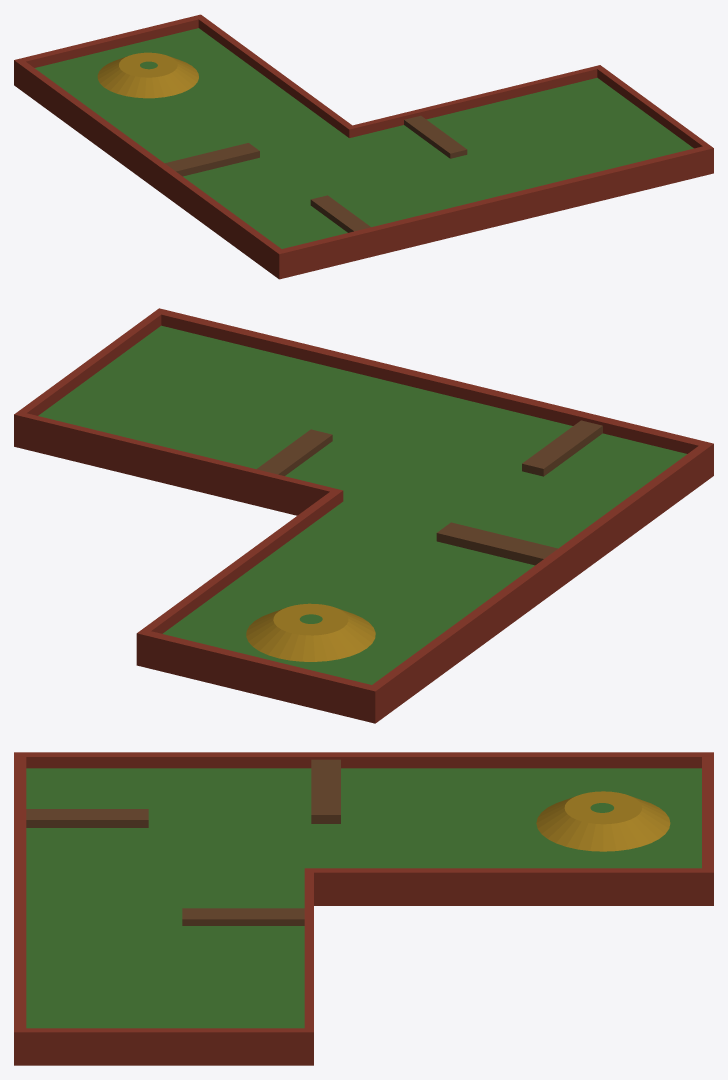
File: playgroundLvl2.glb
3 renders of one model, top to bottom at view 1: azimuth 30°, elevation 25°; view 2: azimuth 150°, elevation 25°; view 3: azimuth 270°, elevation 25°, orthographic. The views are drawn at different scales.
Visible parts, largest first — view 1: Cube.001, Cube, Cylinder, Cube.004, Cube.003, Cube.002; view 2: Cube.001, Cube, Cylinder, Cube.004, Cube.002, Cube.003; view 3: Cube.001, Cube, Cylinder, Cube.002, Cube.003, Cube.004.
Part boxes in pixels (x1,y1,x2,y2): Cube.001: [35, 28, 693, 248]; Cube: [14, 14, 713, 279]; Cylinder: [97, 52, 198, 98]; Cube.004: [165, 143, 259, 176]; Cube.003: [404, 115, 467, 158]; Cube.002: [310, 195, 370, 232]; Cube.001: [38, 325, 686, 684]; Cube: [14, 308, 713, 723]; Cylinder: [246, 603, 375, 661]; Cube.004: [436, 522, 557, 565]; Cube.002: [522, 420, 602, 476]; Cube.003: [256, 429, 332, 475]; Cube.001: [26, 768, 701, 1028]; Cube: [14, 752, 713, 1065]; Cylinder: [536, 791, 670, 851]; Cube.002: [26, 809, 148, 827]; Cube.003: [182, 908, 304, 925]; Cube.004: [311, 759, 340, 823].
Size of the model in its own units: 7.14 by 0.444 by 7.54.
